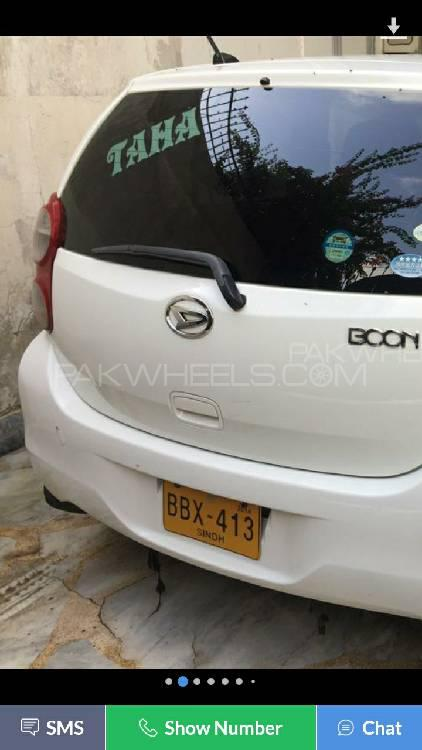license plate: (161, 478, 264, 552)
